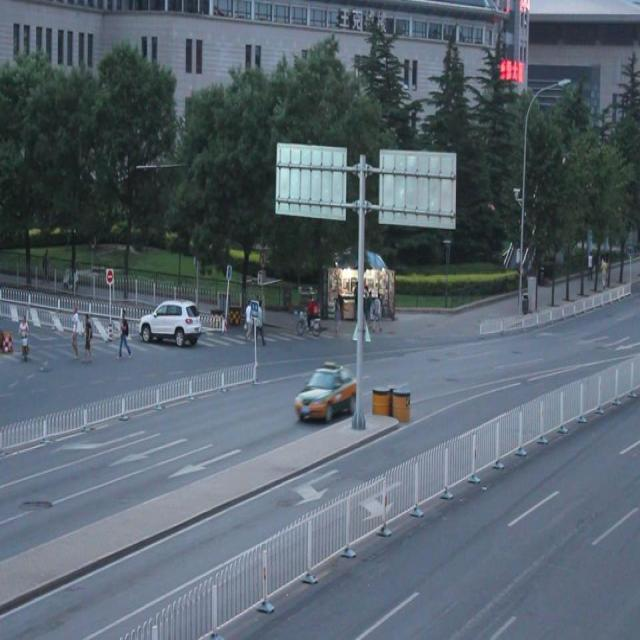car: (294, 365, 359, 422), (140, 297, 201, 345)
